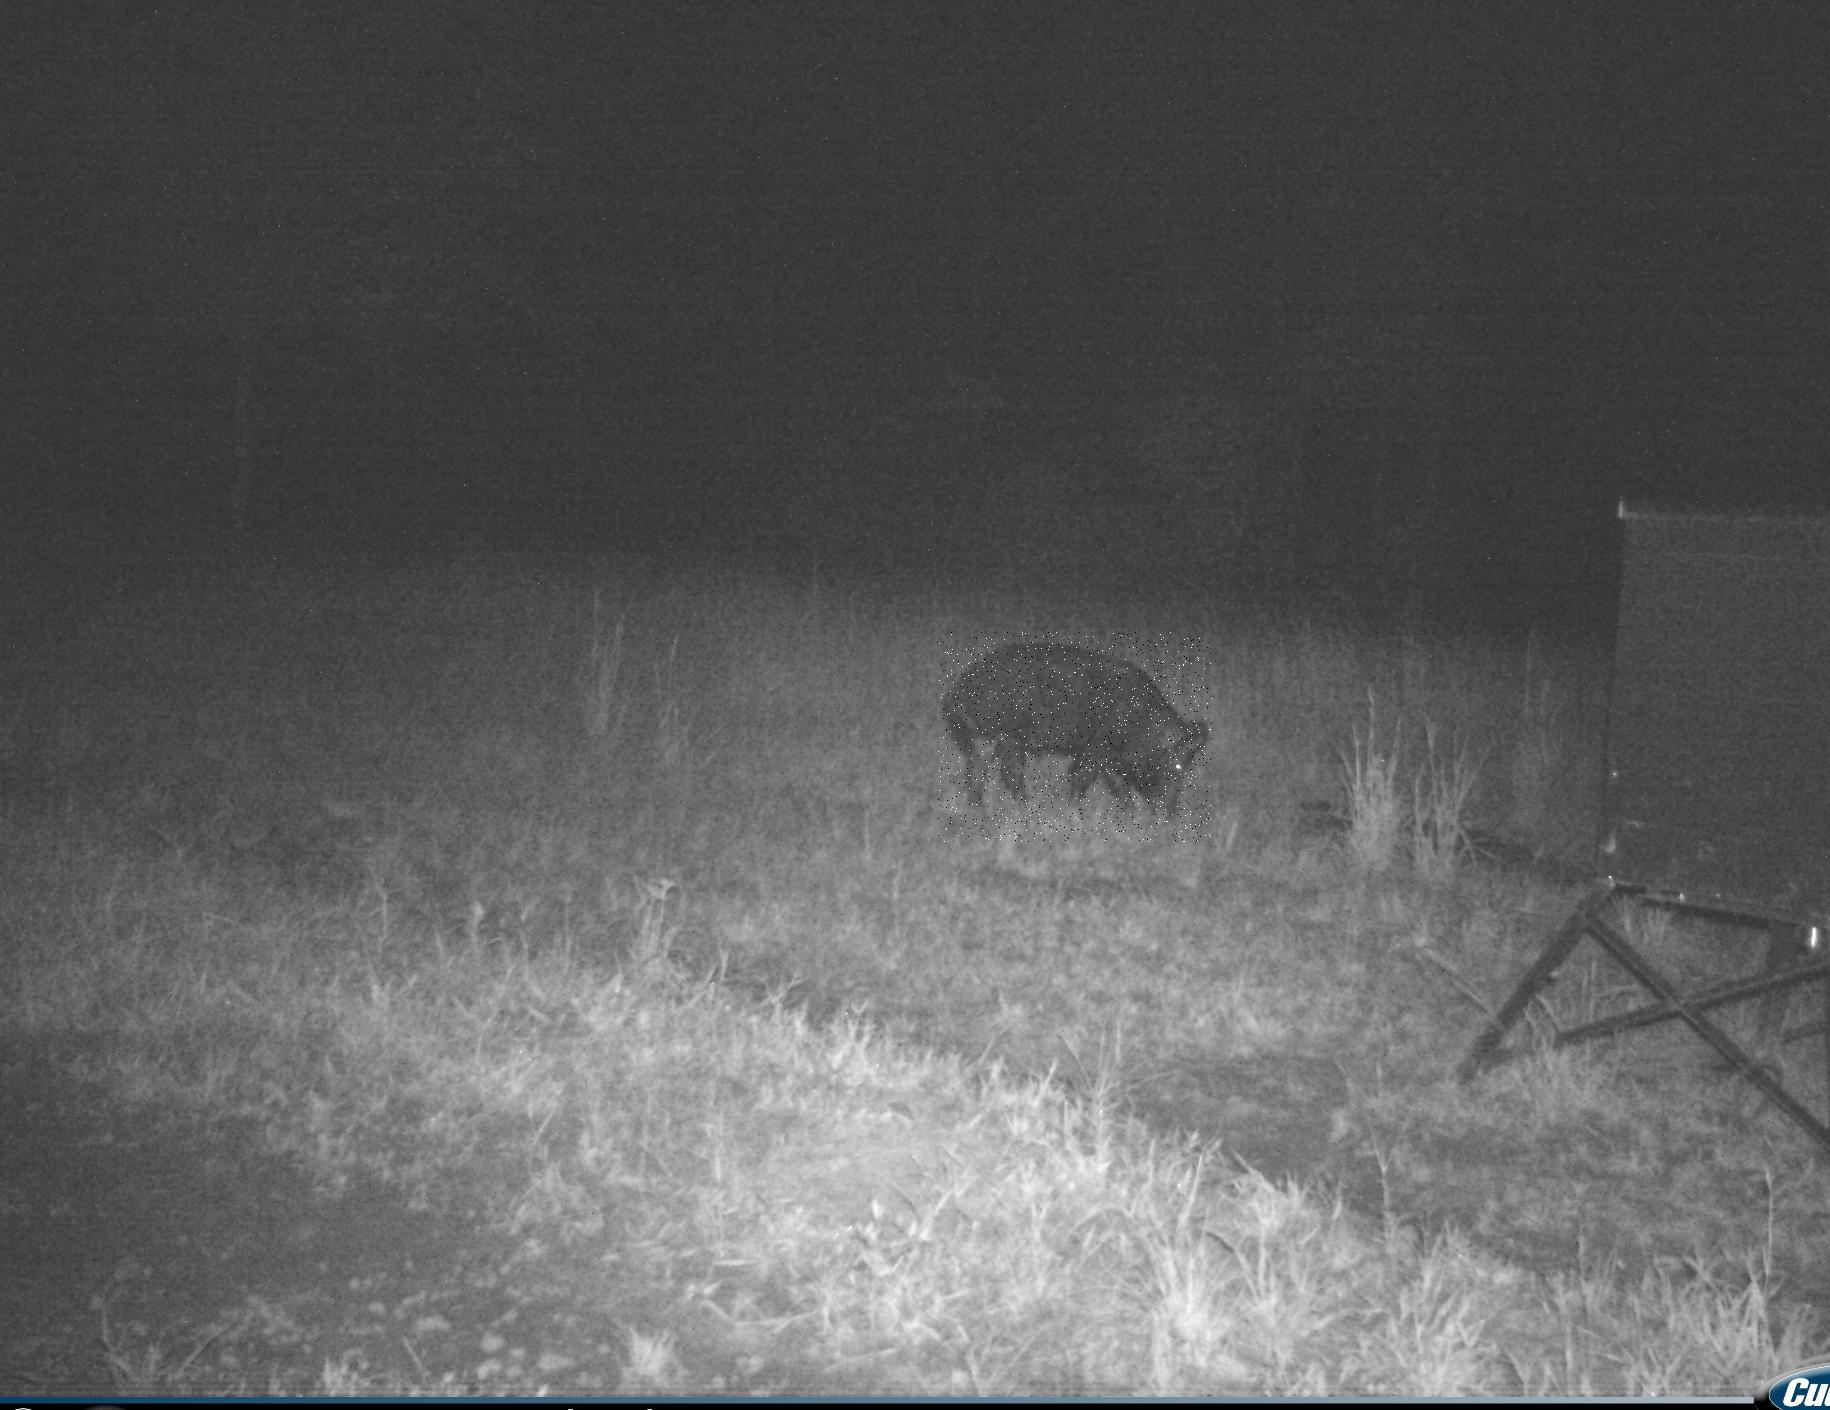Hog: (939, 632, 1211, 841)
